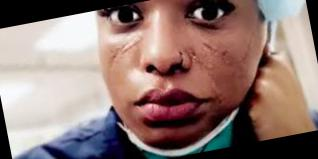mask_weared_incorrect: (94, 1, 261, 159)
